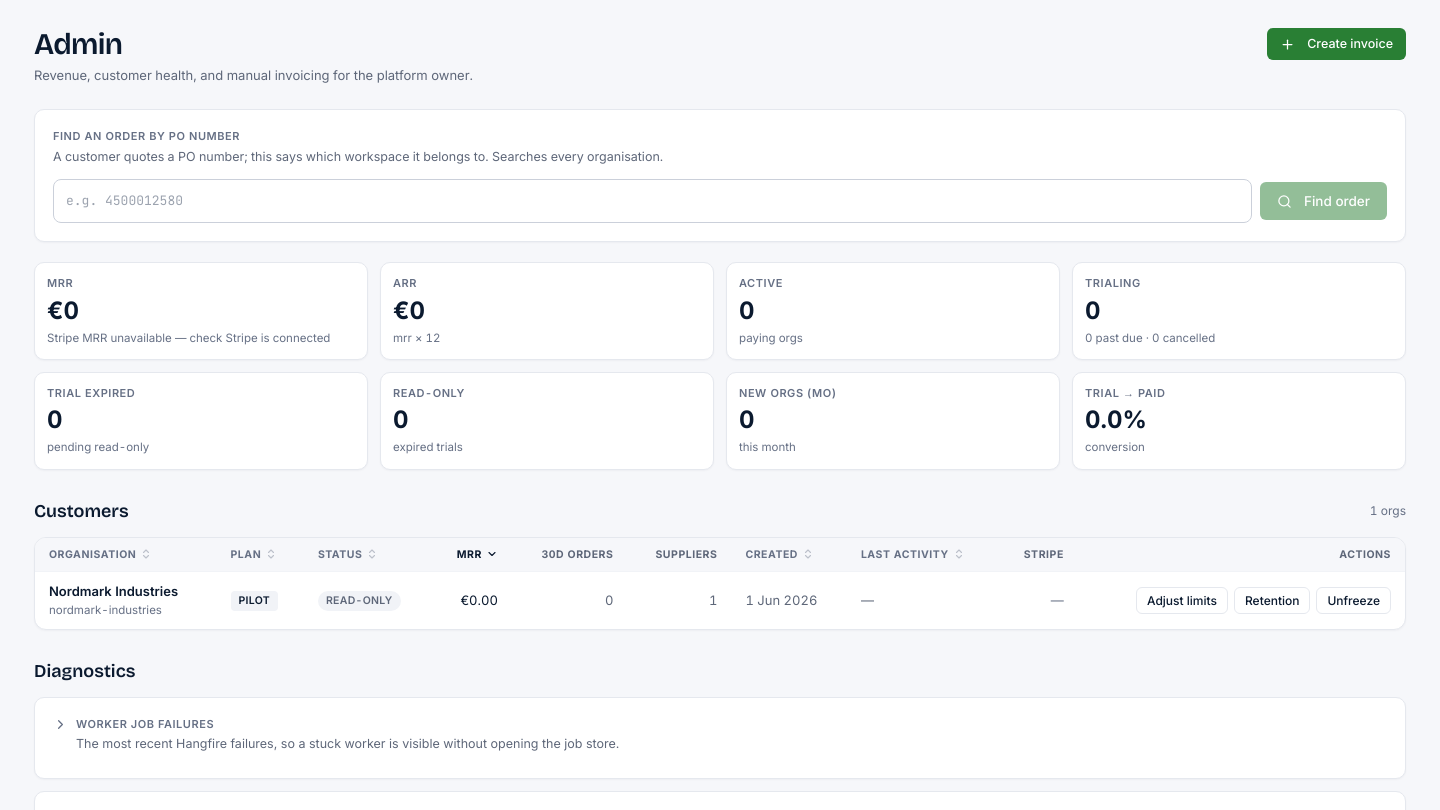
Test: admin — un-freezing is confirmed, and its consequence is named › the dialog says that ingest re-opens with no subscription behind it
Expected: the heading "Customers" is shown, 34,498 -> 129,525
Click the button "Unfreeze".
click(1354, 601)  # box 1316,587 -> 1391,614
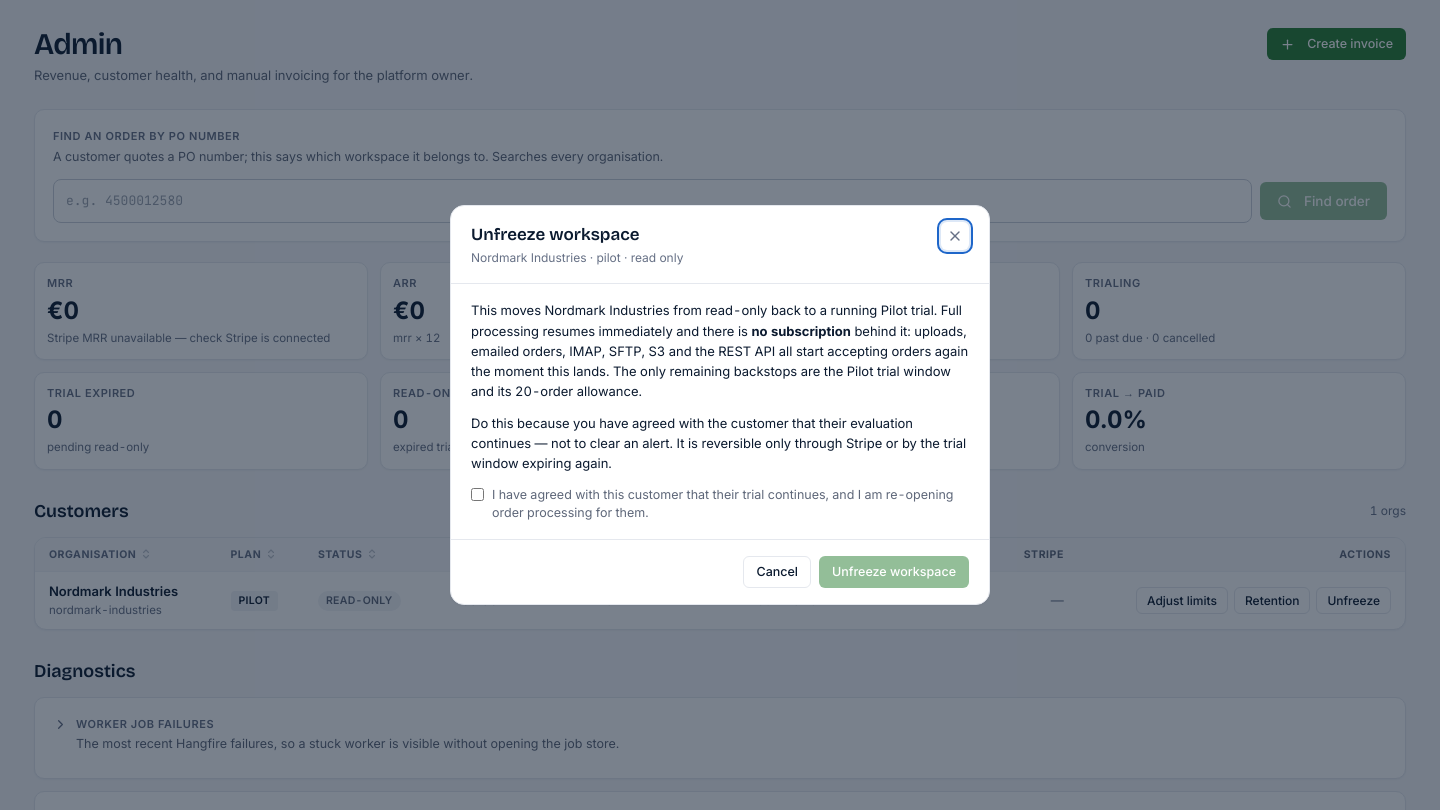
Expected: the dialog with test id "admin-unfreeze-modal" shows "no subscription", 751,323 -> 851,339
